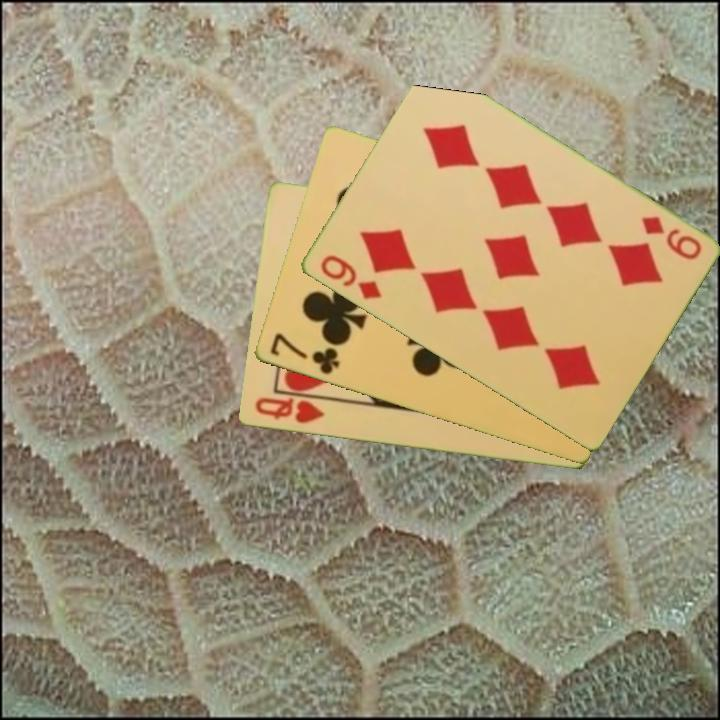7c: (266, 330, 342, 378)
9d: (316, 251, 385, 303), (637, 212, 704, 263)
Qh: (251, 394, 327, 427)
